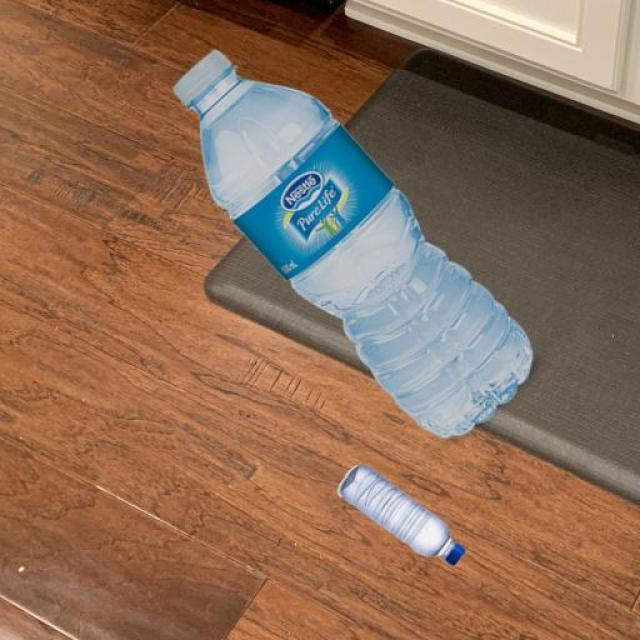bottle: (171, 46, 534, 439), (335, 462, 466, 566)
